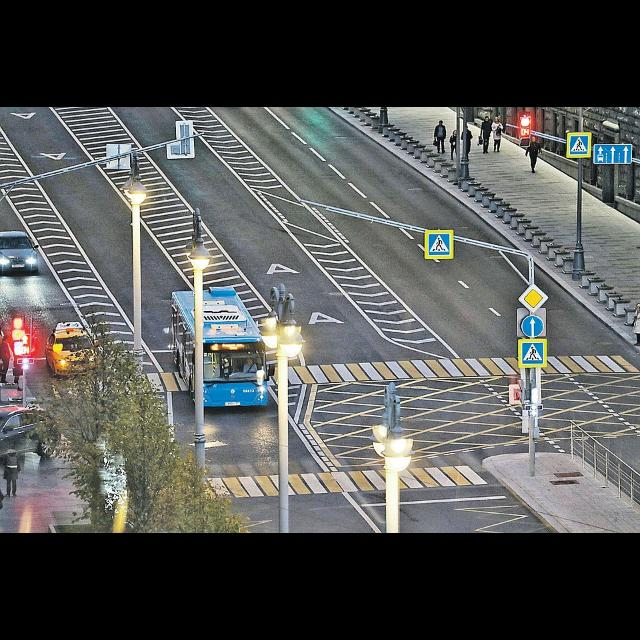road: (151, 141, 524, 367), (211, 107, 501, 240), (42, 168, 132, 318), (397, 377, 525, 470), (301, 380, 389, 469), (206, 398, 277, 476), (0, 108, 86, 172), (142, 232, 188, 349), (0, 268, 76, 330), (549, 312, 629, 355), (114, 107, 177, 146)
